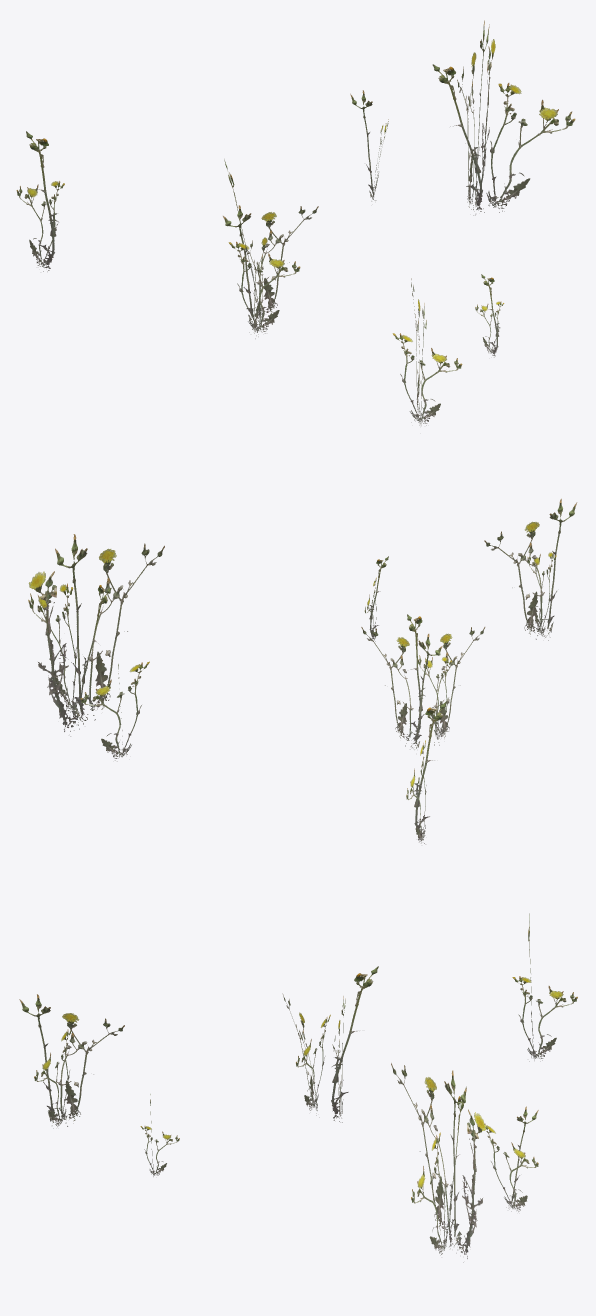
File: proc_grassdandelion01.FBX
3 views of the same model, one above another, from view 1: azimuth 30°, elevation 25°; view 2: azimuth 150°, elevation 25°; view 3: azimuth 270°, elevation 25° (orthographic). The views are drawn at different scales.
Parts seen in each view (by area): view 1: proc_grassdandelion01; view 2: proc_grassdandelion01; view 3: proc_grassdandelion01.
Part boxes in pixels (<box>): proc_grassdandelion01: <box>16,20,575,425</box>; proc_grassdandelion01: <box>28,498,577,844</box>; proc_grassdandelion01: <box>19,913,577,1262</box>.
Size of the model in its own units: 1.58 by 1.64 by 0.7573.
Materials: 1 (1 with a texture image).
